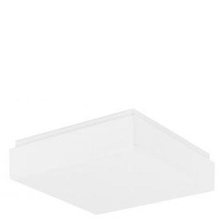foam_box: (5, 105, 220, 218)
